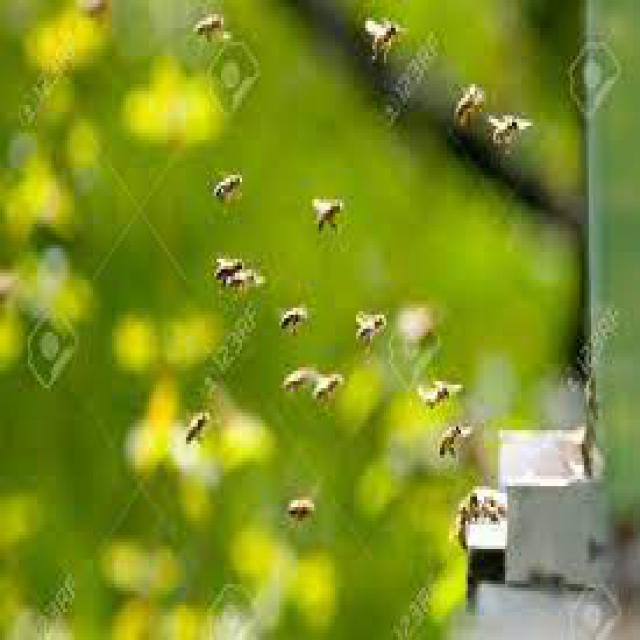Abeille: (491, 100, 538, 160), (310, 355, 348, 416), (307, 188, 350, 240), (366, 12, 407, 62), (277, 291, 314, 339), (352, 302, 388, 350), (208, 166, 250, 206), (452, 76, 485, 126), (210, 246, 248, 283), (438, 423, 472, 463), (193, 12, 230, 46), (183, 401, 211, 445)
